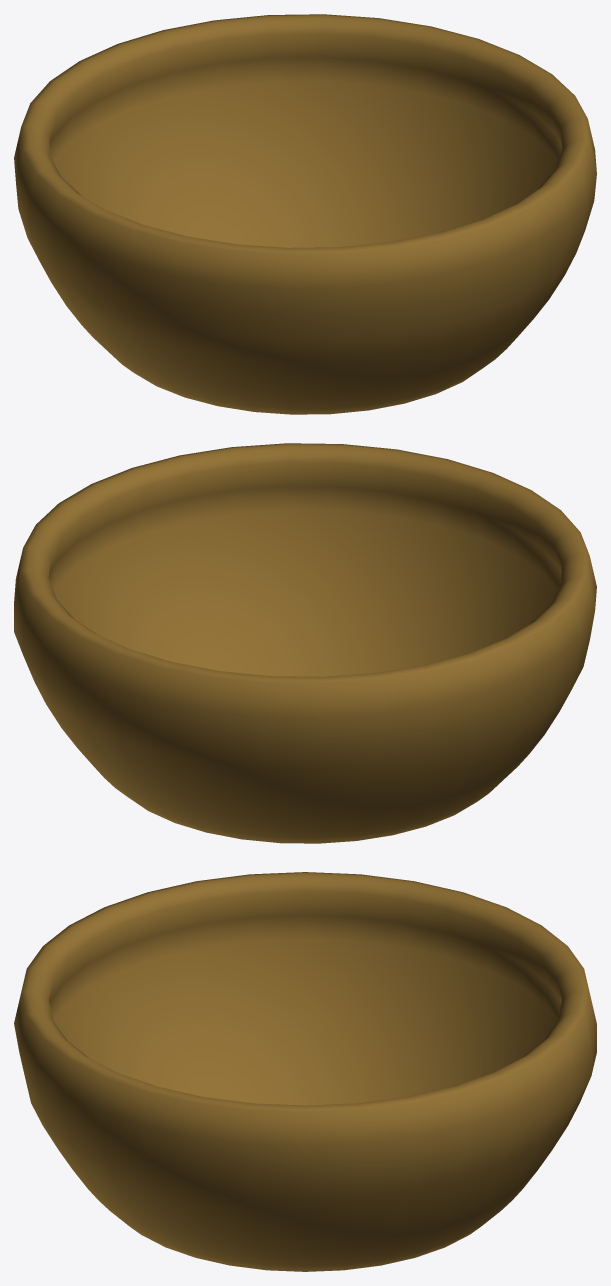
The model's file is Bowl.fbx.
3 views of the same model, one above another, from view 1: azimuth 30°, elevation 25°; view 2: azimuth 150°, elevation 25°; view 3: azimuth 270°, elevation 25° (orthographic).
Parts seen in each view (by area): view 1: Bowl; view 2: Bowl; view 3: Bowl.
Part boxes in pixels (x1,y1,x2,y2): Bowl: (14,14,596,414); Bowl: (14,443,596,843); Bowl: (14,872,596,1271).
Bounding box in the file's own units: 0.2703 × 0.113 × 0.2704.
